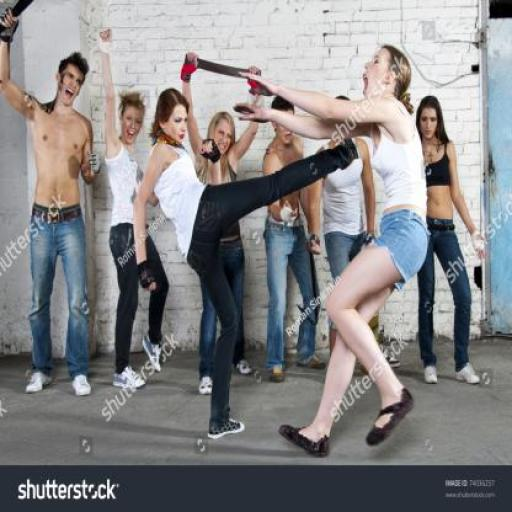Fighting: (131, 44, 420, 452)
